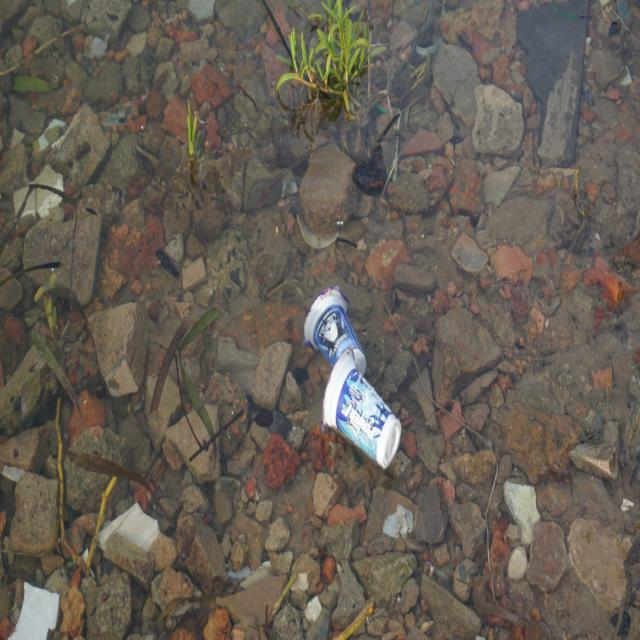Bungkus Minuman: (319, 348, 403, 474), (303, 281, 370, 379)
